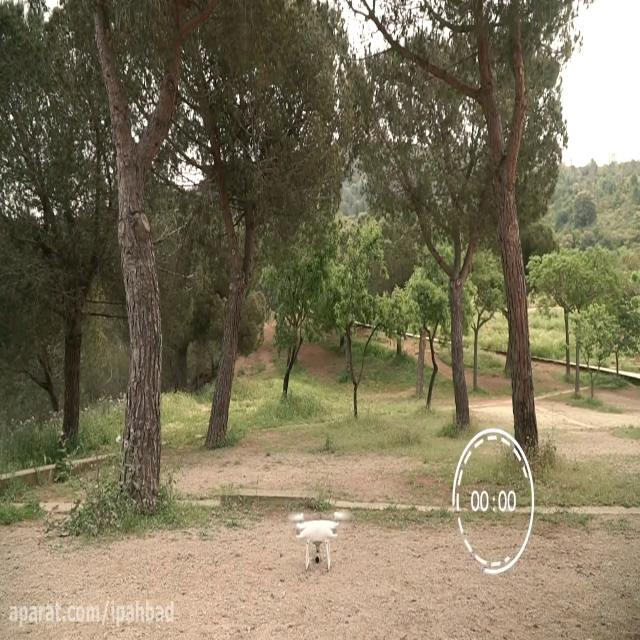drone: (287, 505, 353, 574)
